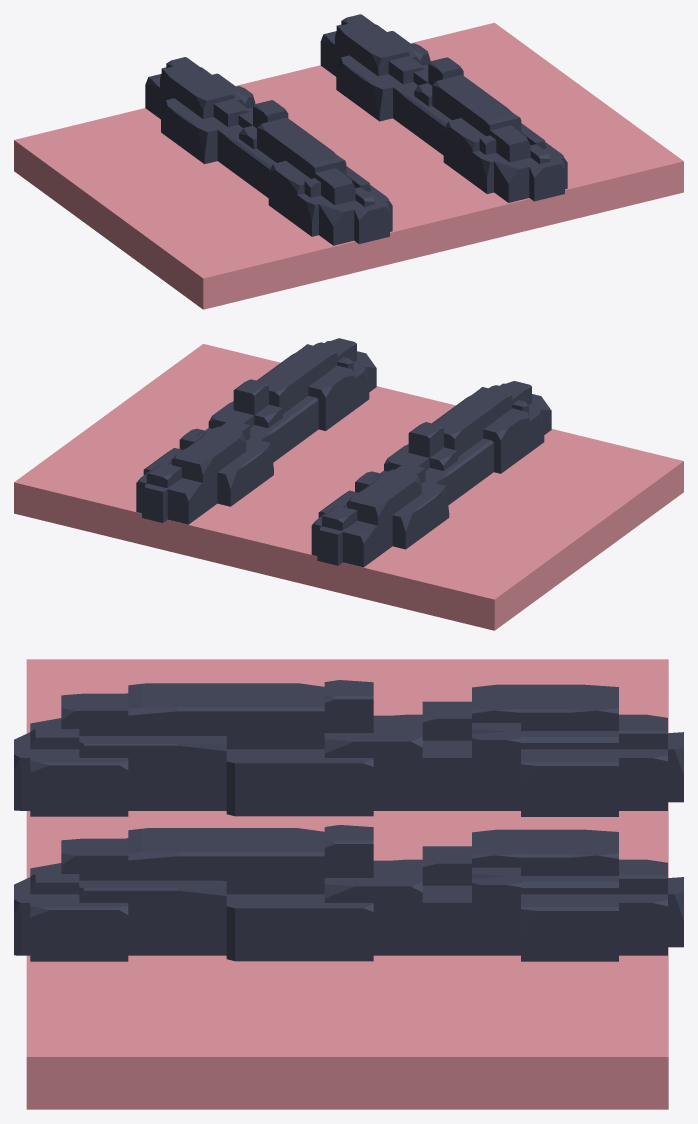
File: New_Map4.fbx
3 views of the same model, one above another, from view 1: azimuth 30°, elevation 25°; view 2: azimuth 150°, elevation 25°; view 3: azimuth 270°, elevation 25° (orthographic). The views are drawn at different scales.
Visible parts, largest first — view 1: Cube.004, Rock _wall.004, Rock _wall.005; view 2: Cube.004, Rock _wall.005, Rock _wall.004; view 3: Cube.004, Rock _wall.005, Rock _wall.004.
Part boxes in pixels (bbox=[...]): Cube.004: bbox=[14, 22, 683, 309]; Rock _wall.004: bbox=[145, 57, 392, 245]; Rock _wall.005: bbox=[320, 14, 567, 202]; Cube.004: bbox=[14, 344, 683, 630]; Rock _wall.005: bbox=[136, 338, 376, 524]; Rock _wall.004: bbox=[311, 381, 551, 567]; Cube.004: bbox=[26, 659, 668, 1109]; Rock _wall.005: bbox=[14, 825, 683, 961]; Rock _wall.004: bbox=[14, 680, 683, 816].
Bounding box in the file's own units: 1290 × 239 × 918.
